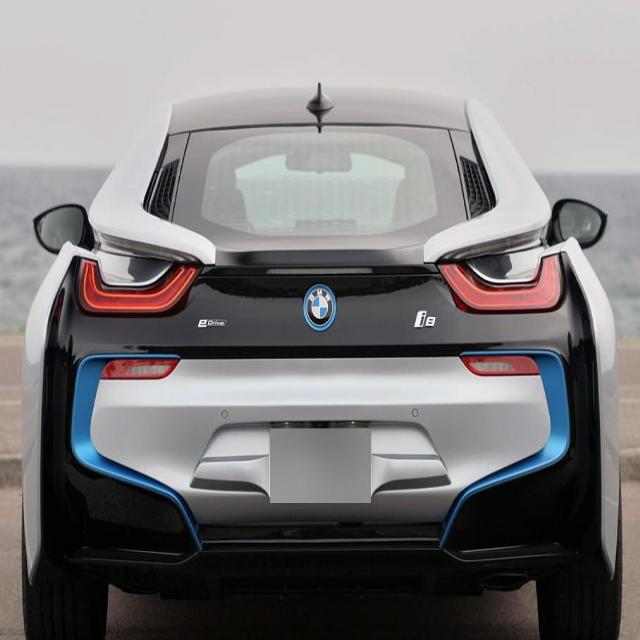back_glass: (152, 117, 484, 282)
back_left_side_light: (70, 238, 215, 331)
back_right_side_light: (429, 229, 570, 318)
front_left_side_mirror: (23, 191, 105, 260)
front_right_side_mirror: (542, 188, 616, 262)
rear_bumper: (32, 338, 610, 558)
